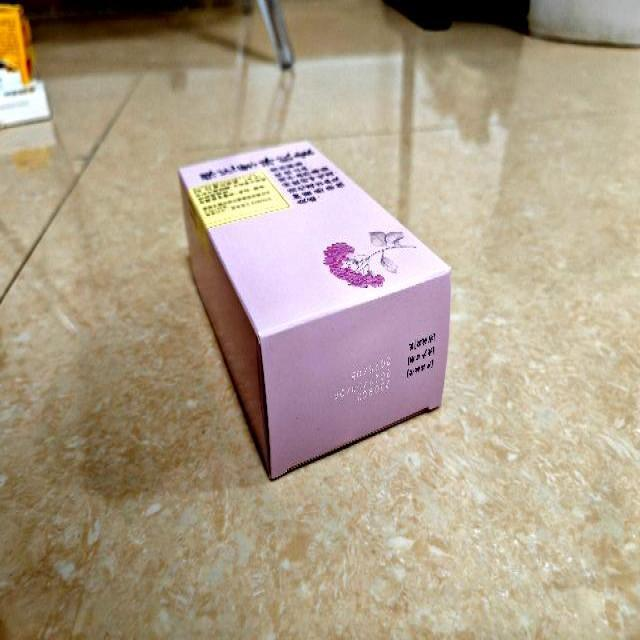box: (178, 140, 452, 483)
